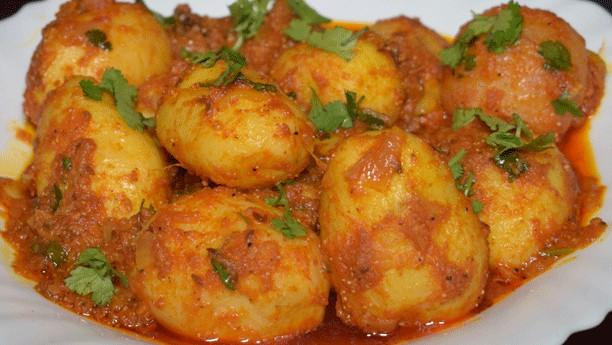DumAloo: (0, 0, 608, 345)
